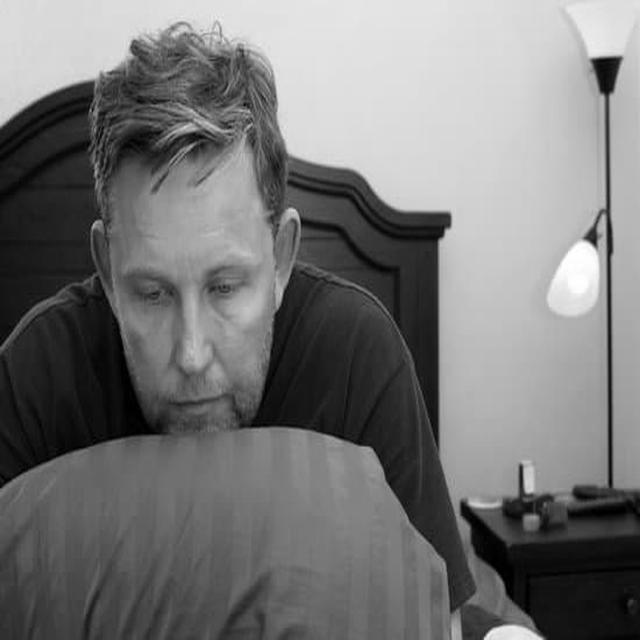Sadness: (113, 155, 276, 435)
